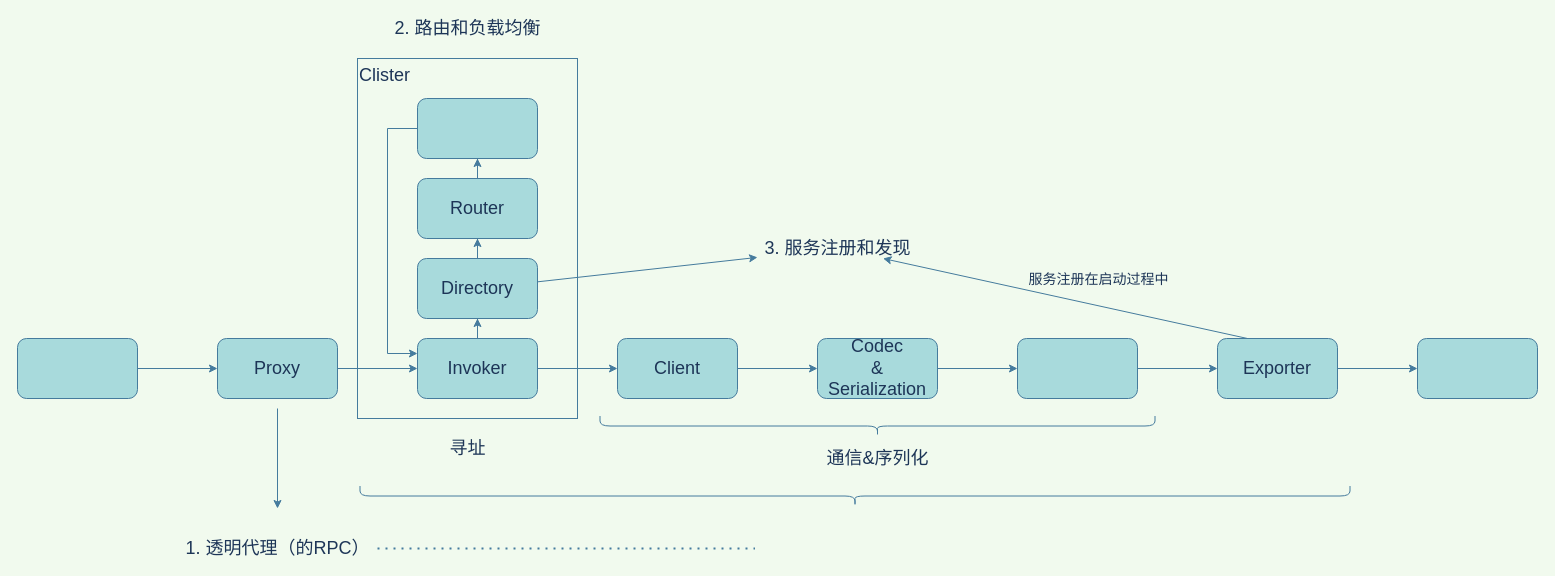
This 1555x576 diagram has some shape labels left out. Here are the shapes that lost their labels. From the top down, the centre of each, then its label:
At point (477, 128): "LoadBalance".
At point (77, 368): "Application".
At point (1077, 368): "Server".
At point (1477, 368): "Implement".
At point (854, 495): "（Dubbo协议的）RPC".
